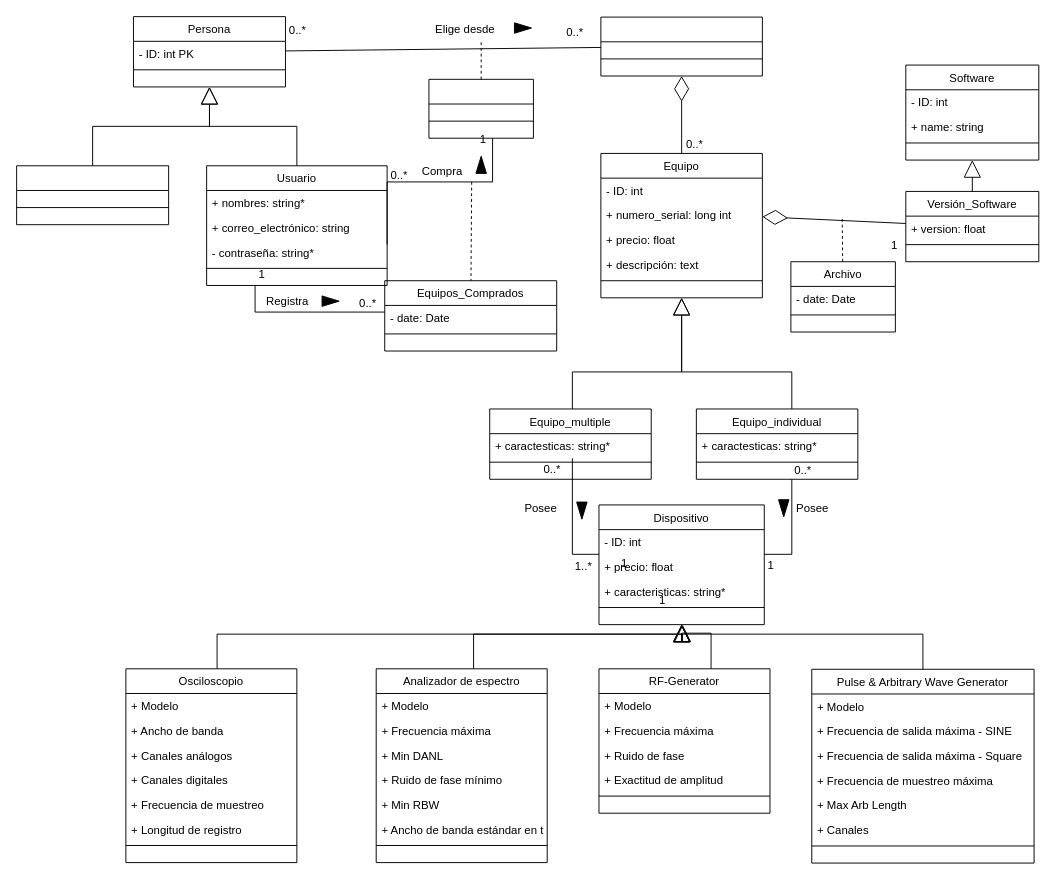
Image size: 1055x880. Some labels were removed from this diagram. The centre of each missing label's shape, as x and y in pixels:
Carrito: point (480, 108)
Catalogo: point (681, 46)
Visitante: point (92, 195)
